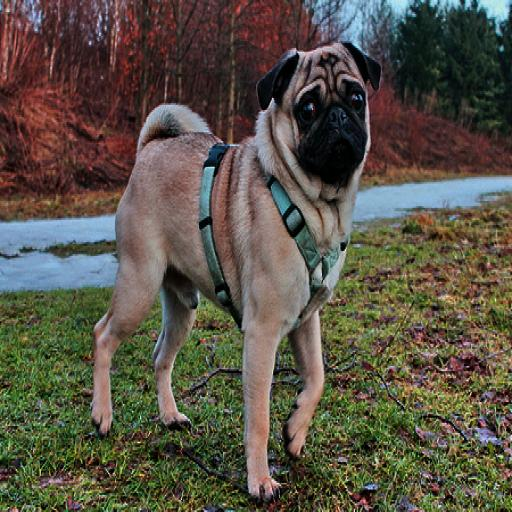dog_face: (251, 36, 388, 187)
